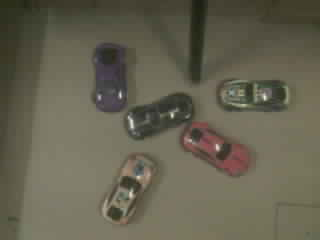Car: (181, 122, 248, 175), (103, 154, 154, 223), (125, 93, 194, 139), (219, 80, 289, 110), (95, 44, 126, 111)
